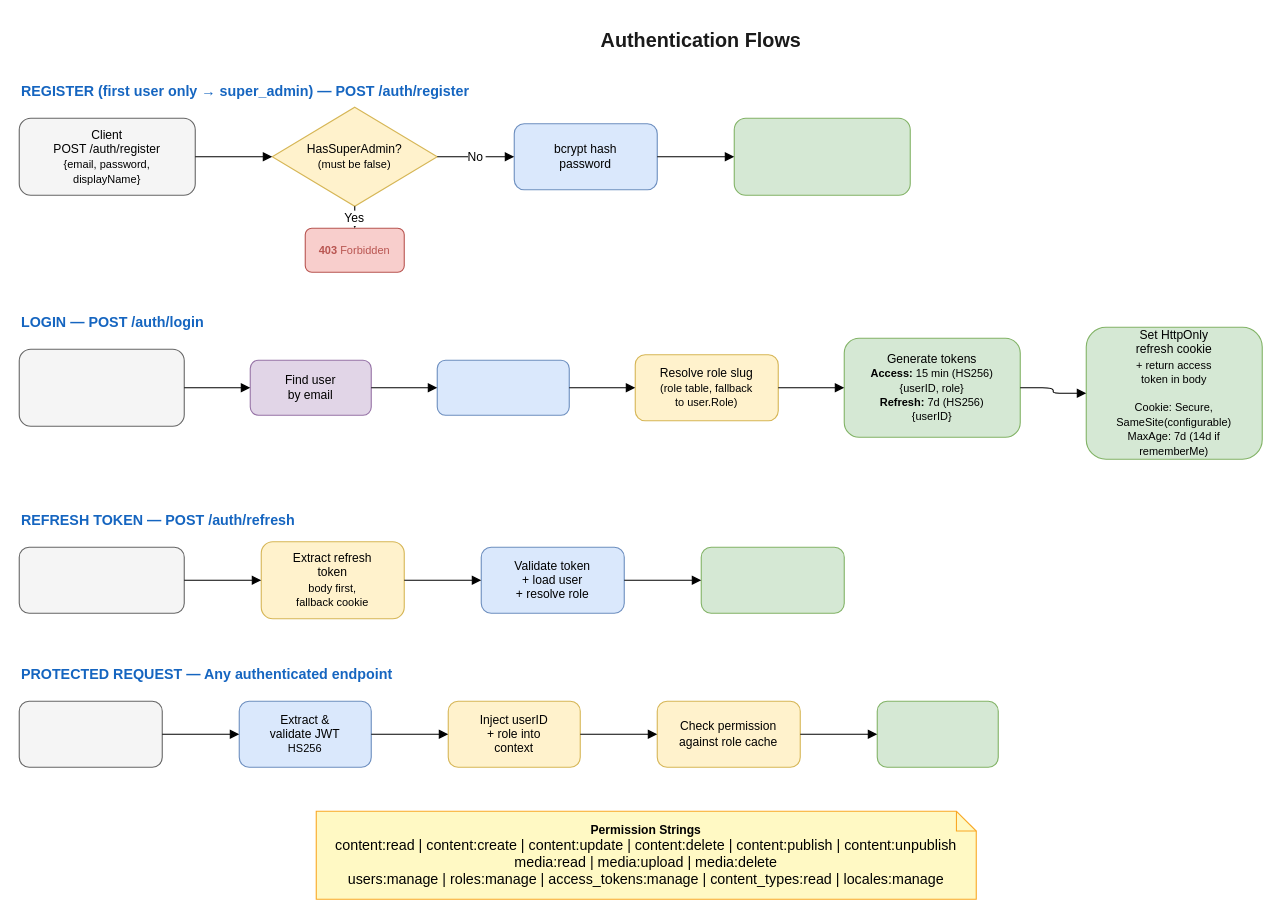
Some shapes in this 1282 by 919 pixel diagram are drawn without their labels. The centre of each missing label's shape, as x and y in pixels:
"bcrypt.Compare password" belongs at point 502,387.
"Client Authorization: Bearer <token>" belongs at point 90,733.
"Client POST /auth/login {email, password, rememberMe?}" belongs at point 101,387.
"Client POST /auth/refresh (body or cookie)" belongs at point 101,579.
"Create User with super_admin role + return tokens" belongs at point 821,156.
"Handler processes request" belongs at point 937,733.
"Issue new access + refresh tokens" belongs at point 772,579.
